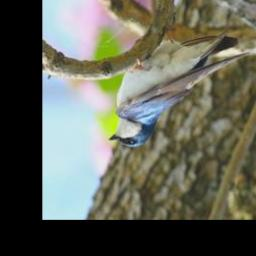Swallow: (108, 22, 251, 149)
